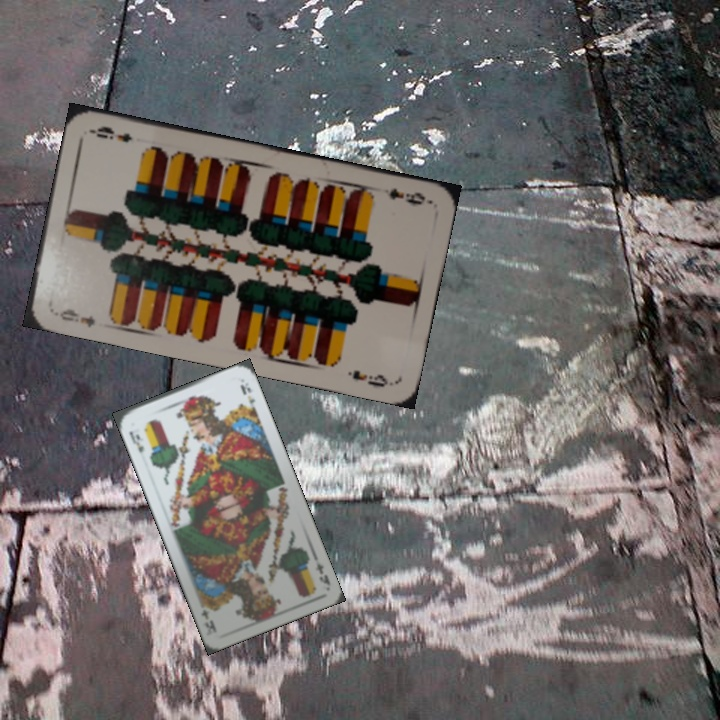E9: (50, 304, 98, 331), (385, 184, 431, 208)
EK: (309, 551, 333, 588), (125, 427, 147, 455)
